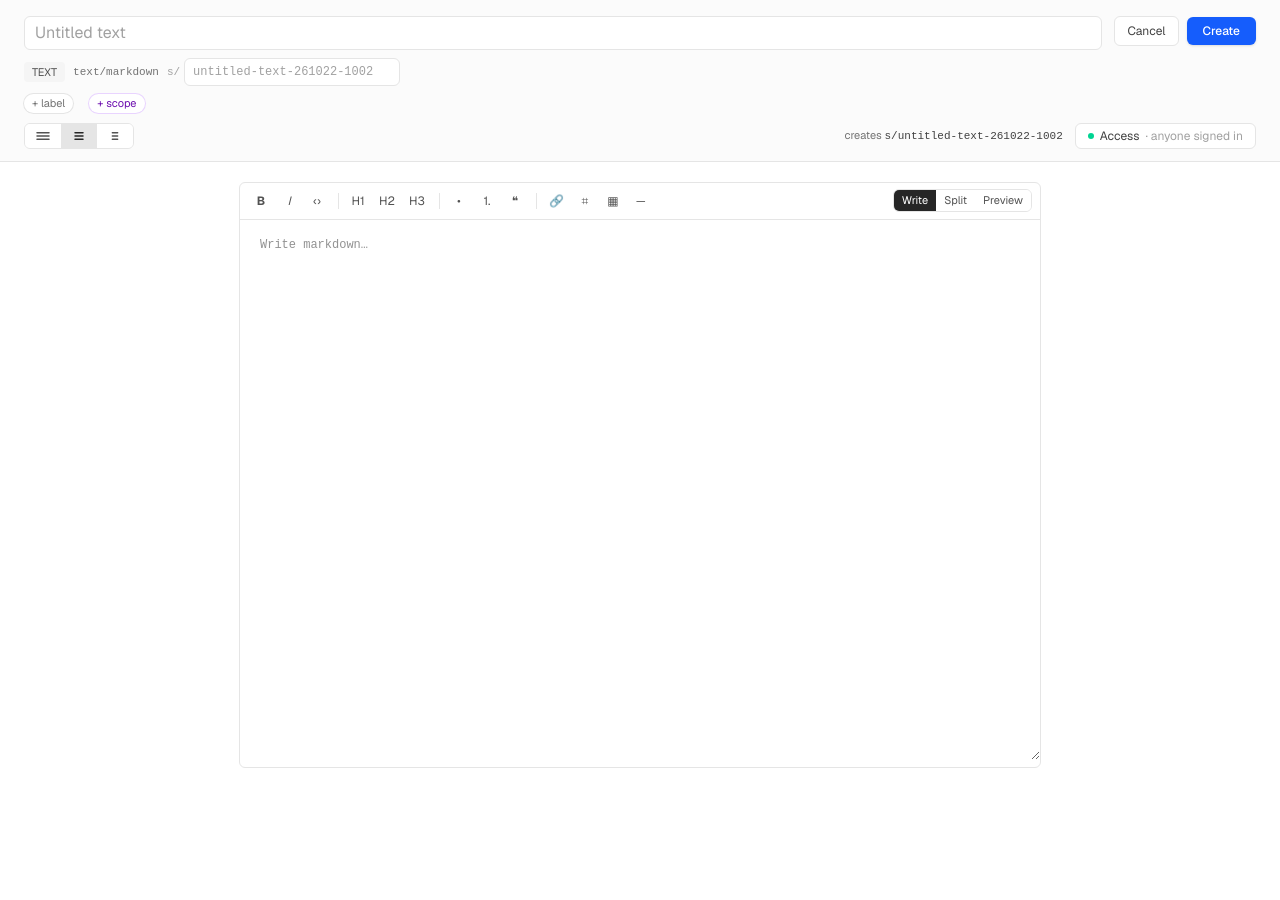
NewArtifact › hides the width control in Split and restores it in Write
Check: the element named "reading width" is shown, box [24,122,134,148]
Click the button "split". click: (956, 201)
box: [936,190,975,211]
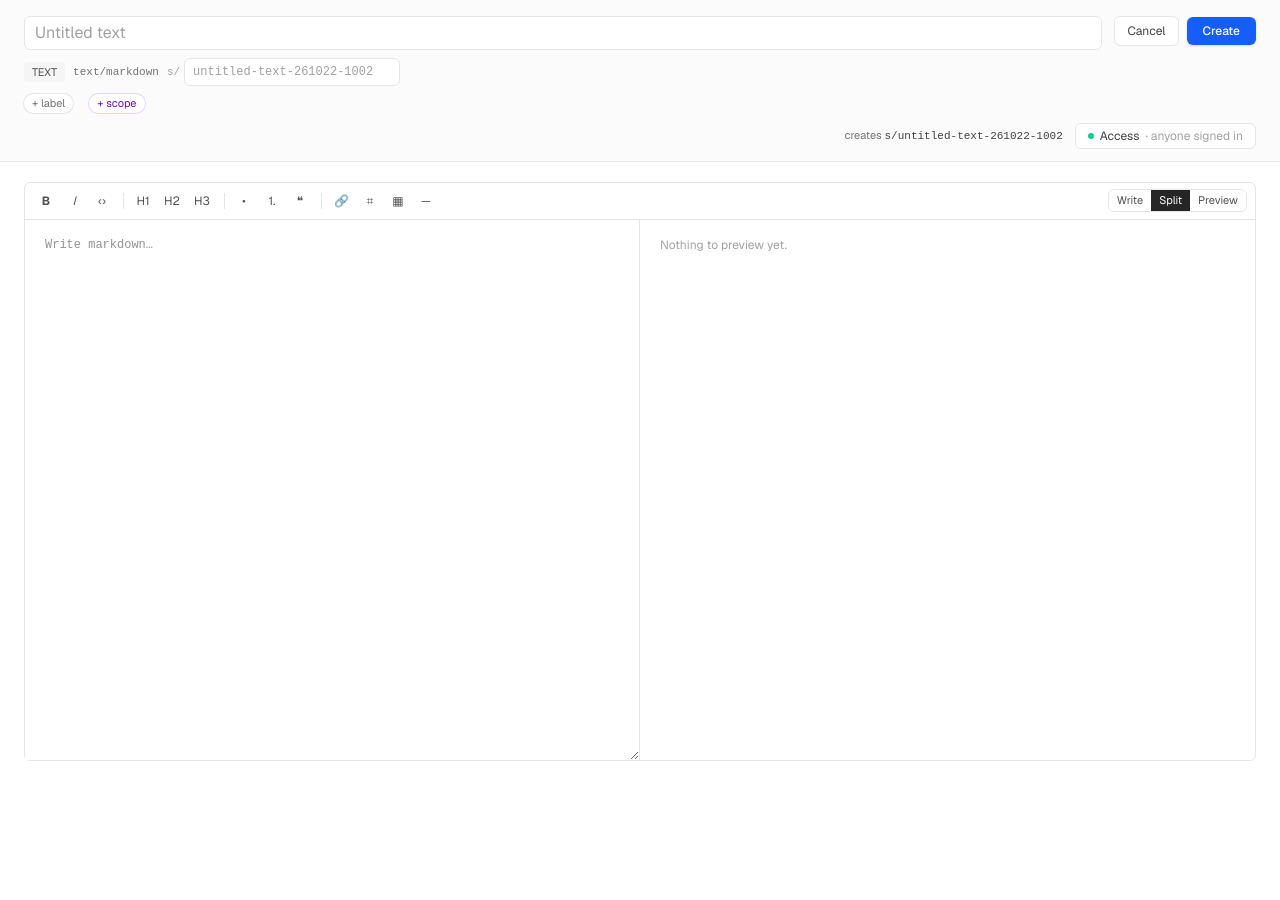
Click the button "write". click: (1130, 201)
box: [1109,190,1151,211]
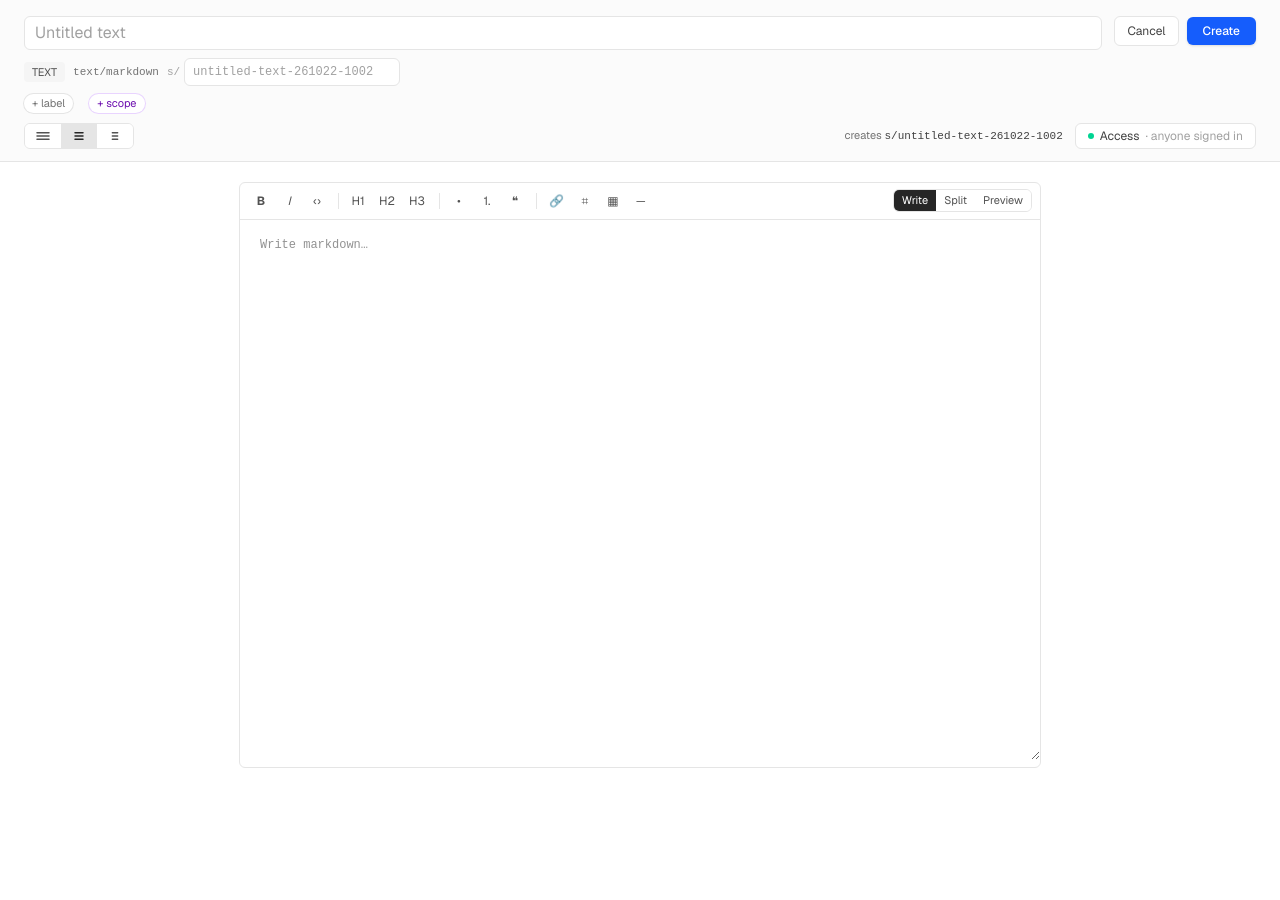
Check: the element named "reading width" is shown, box [24,122,134,148]
